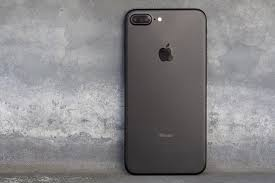iphone: (117, 5, 211, 178)
